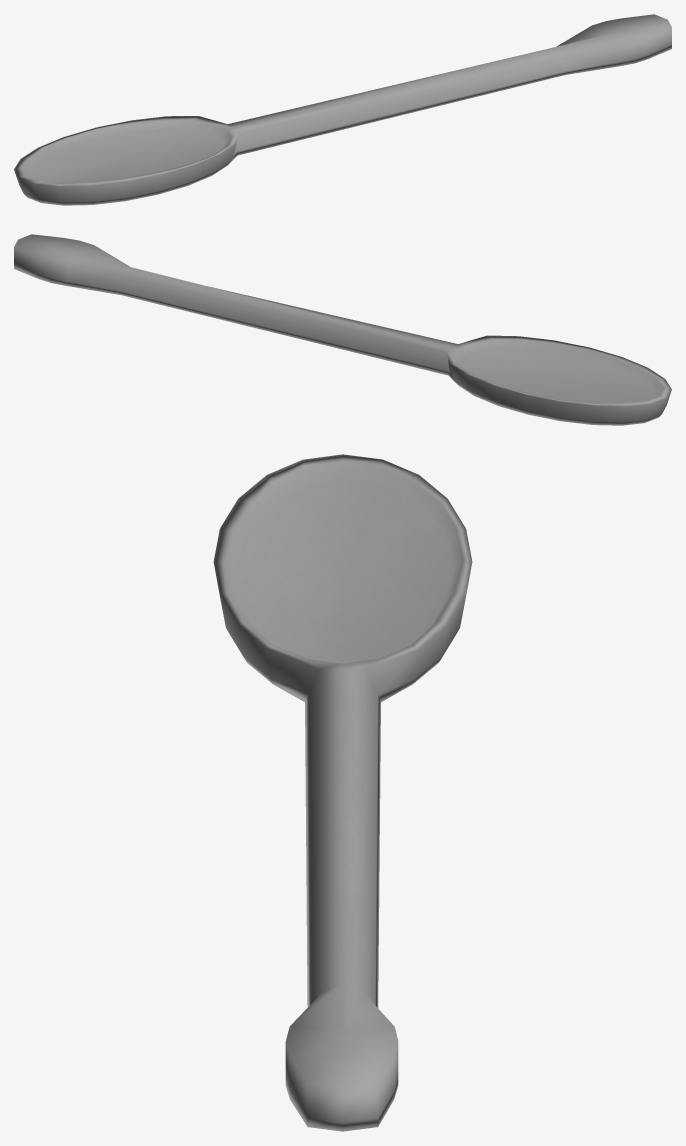
File: Spoon.fbx
3 views of the same model, one above another, from view 1: azimuth 30°, elevation 25°; view 2: azimuth 150°, elevation 25°; view 3: azimuth 270°, elevation 25° (orthographic). The views are drawn at different scales.
Parts seen in each view (by area): view 1: Spoon1; view 2: Spoon1; view 3: Spoon1.
Boxes of the visible parts, <box> form: Spoon1: <box>14,14,671,205</box>; Spoon1: <box>14,234,671,425</box>; Spoon1: <box>213,454,472,1131</box>.
Size of the model in its own units: 20.12 by 0.6672 by 3.47.
